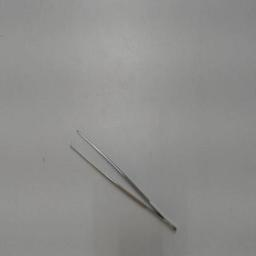Gillies Toothed Dissector: (68, 122, 182, 236)
